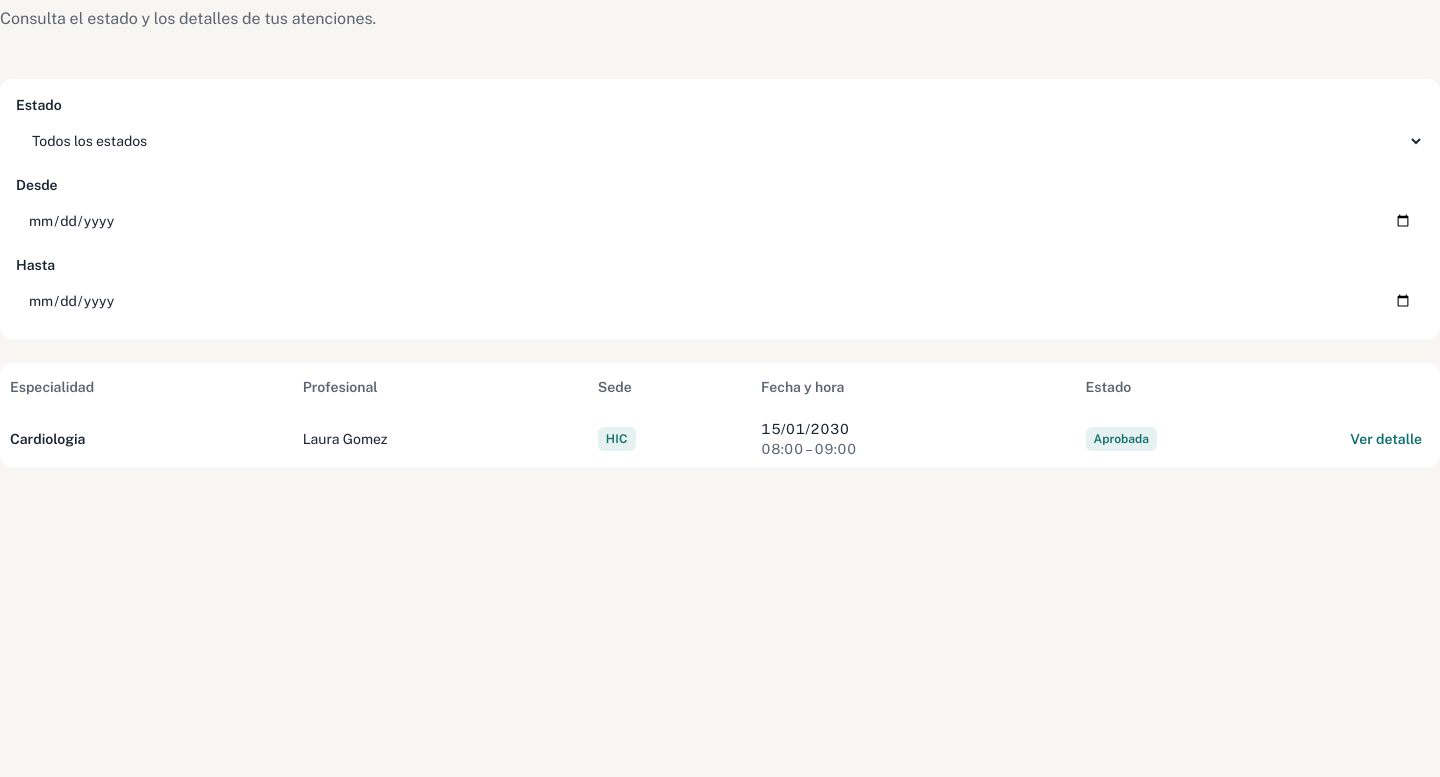
Test: MyAppointmentsPage — reprogramación (HU-018) › HU-019 muestra el rechazo con su motivo y permite pedir otra franja
Click the button with aria-label "Ver detalle de Cardiologia" at [1386, 439], box 1342,419 -> 1430,459
(page scrolled)
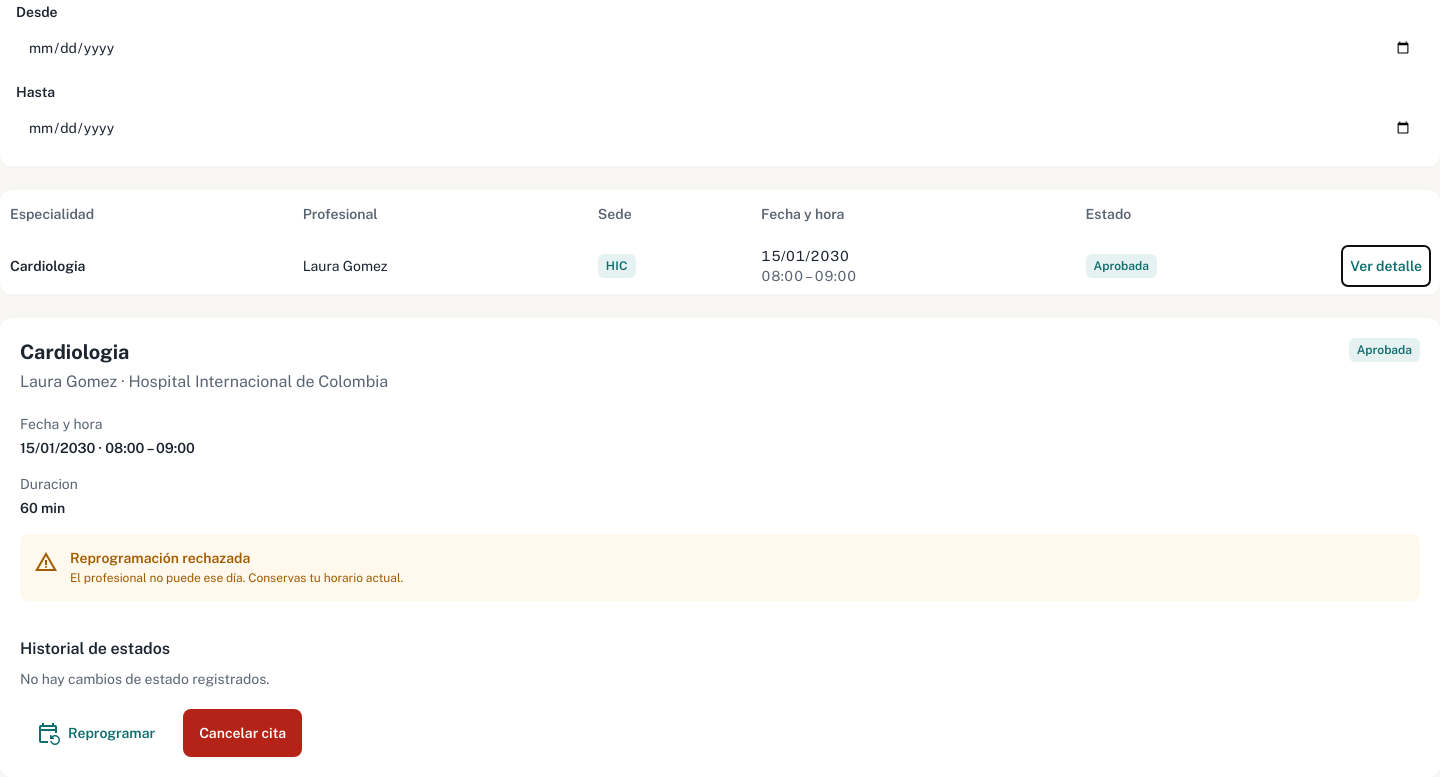
Expected: the text "Reprogramación rechazada" is shown, 70,550 -> 250,566
Expected: the text "El profesional no puede ese día. Conservas tu horario actual." is shown, 70,570 -> 403,586
Expected: the button "Reprogramar" is shown, 20,708 -> 171,756
